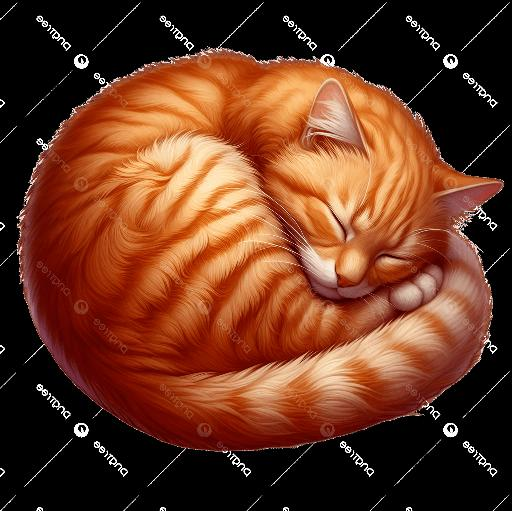cat_sleeping: (18, 49, 504, 451)
